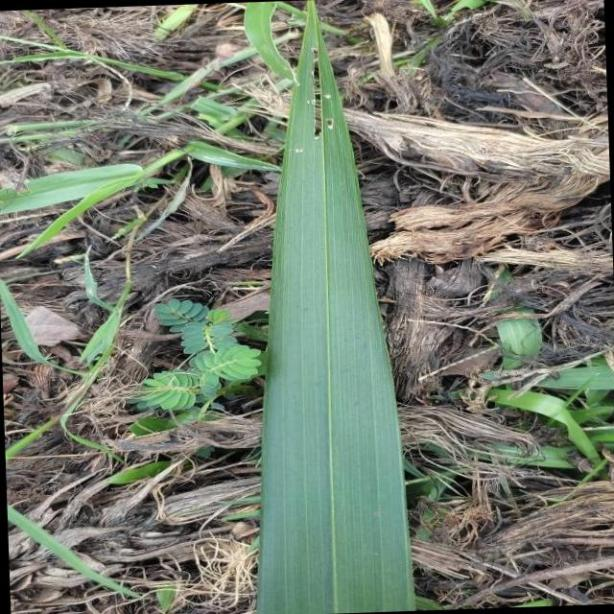Boron: (254, 0, 414, 614)
